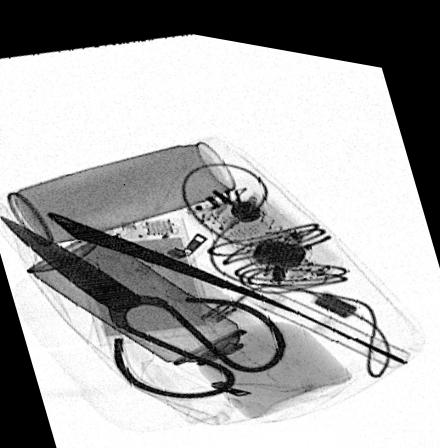Knife: (48, 211, 410, 349)
Powerbank: (69, 205, 217, 342)
Scissors: (0, 216, 286, 391)
Sprayer: (24, 233, 290, 384)
